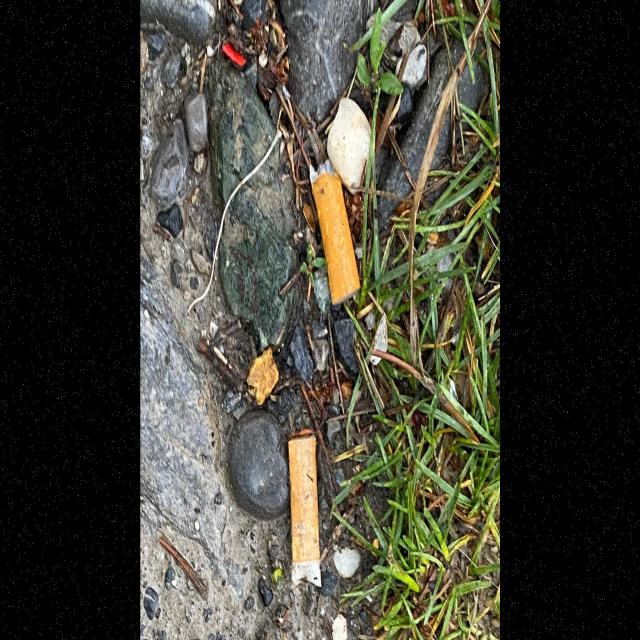other waste: (308, 158, 362, 309), (287, 429, 322, 589)
